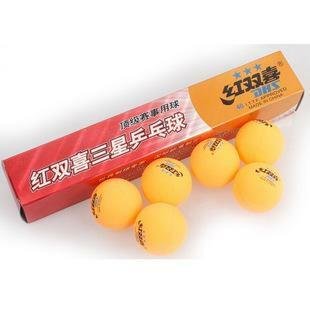ball: (86, 174, 144, 232), (131, 199, 186, 256), (231, 160, 285, 214), (138, 155, 193, 208), (188, 134, 240, 190), (233, 116, 286, 169)
